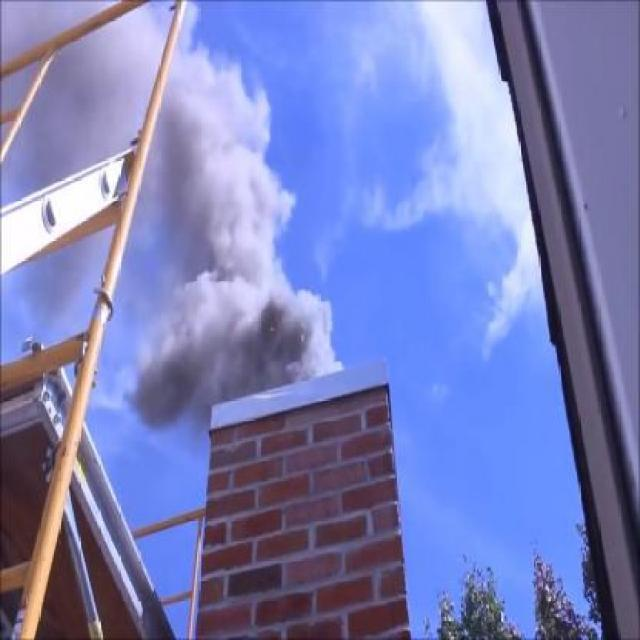smoke: (180, 96, 338, 364)
